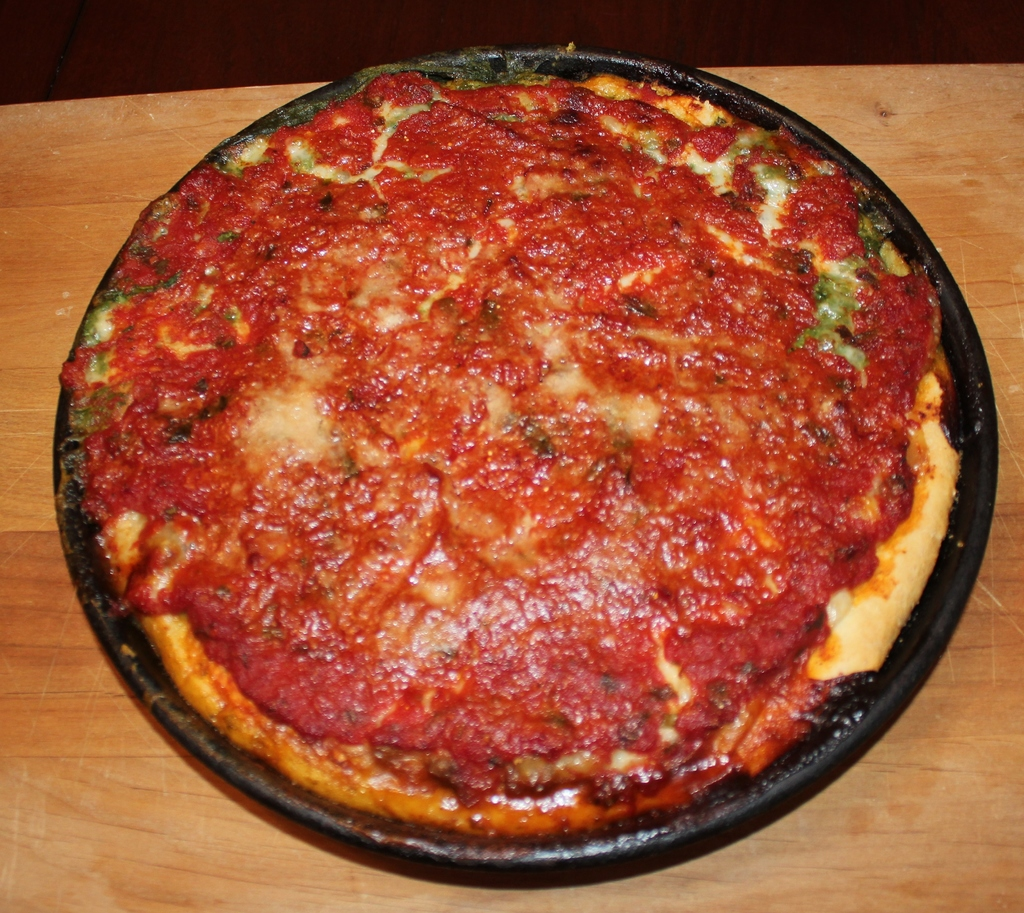Pizza: (60, 52, 972, 843)
